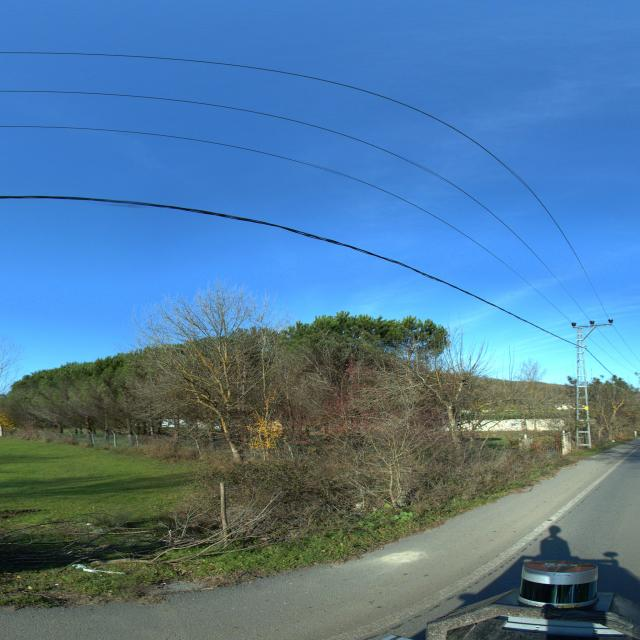Utility Pole Information Plate: (585, 406, 588, 410)
